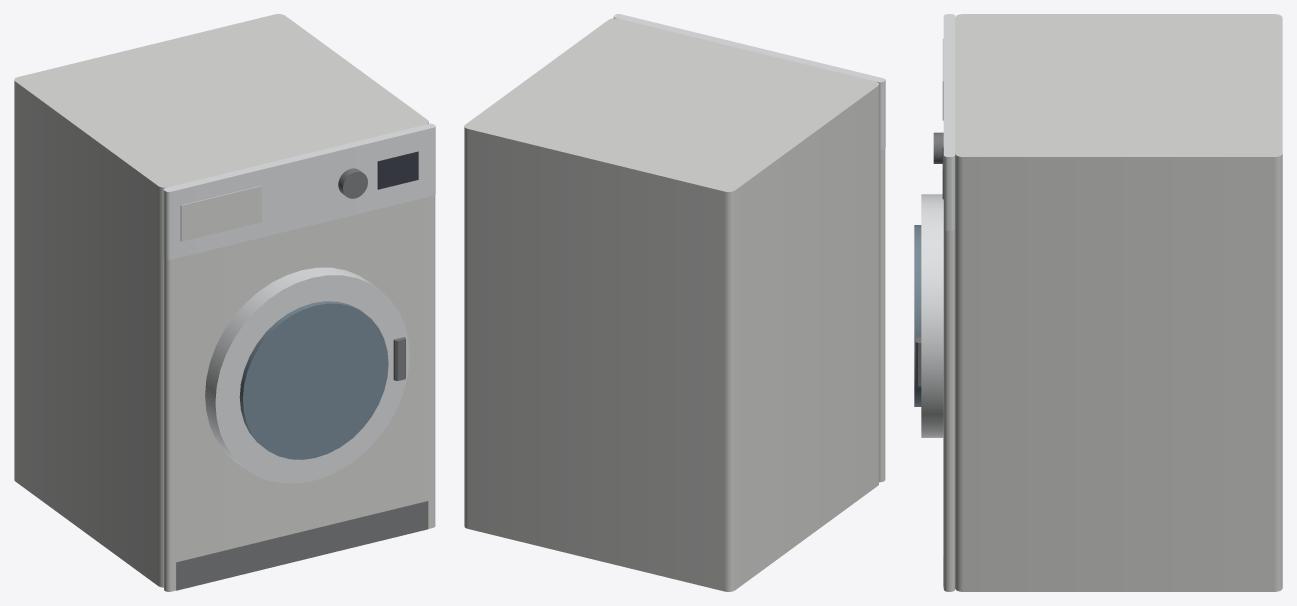
3 renders of one model, left to right at view 1: azimuth 30°, elevation 25°; view 2: azimuth 150°, elevation 25°; view 3: azimuth 270°, elevation 25°, orthographic. The views are drawn at different scales.
Parts seen in each view (by area): view 1: Máy giặt; view 2: Máy giặt; view 3: Máy giặt.
Boxes of the visible parts, left/top/right/bottom form: Máy giặt: left=14, top=14, right=435, bottom=591; Máy giặt: left=464, top=14, right=885, bottom=591; Máy giặt: left=914, top=14, right=1282, bottom=591.
Size of the model in its own units: 0.6 by 0.85 by 0.652.
